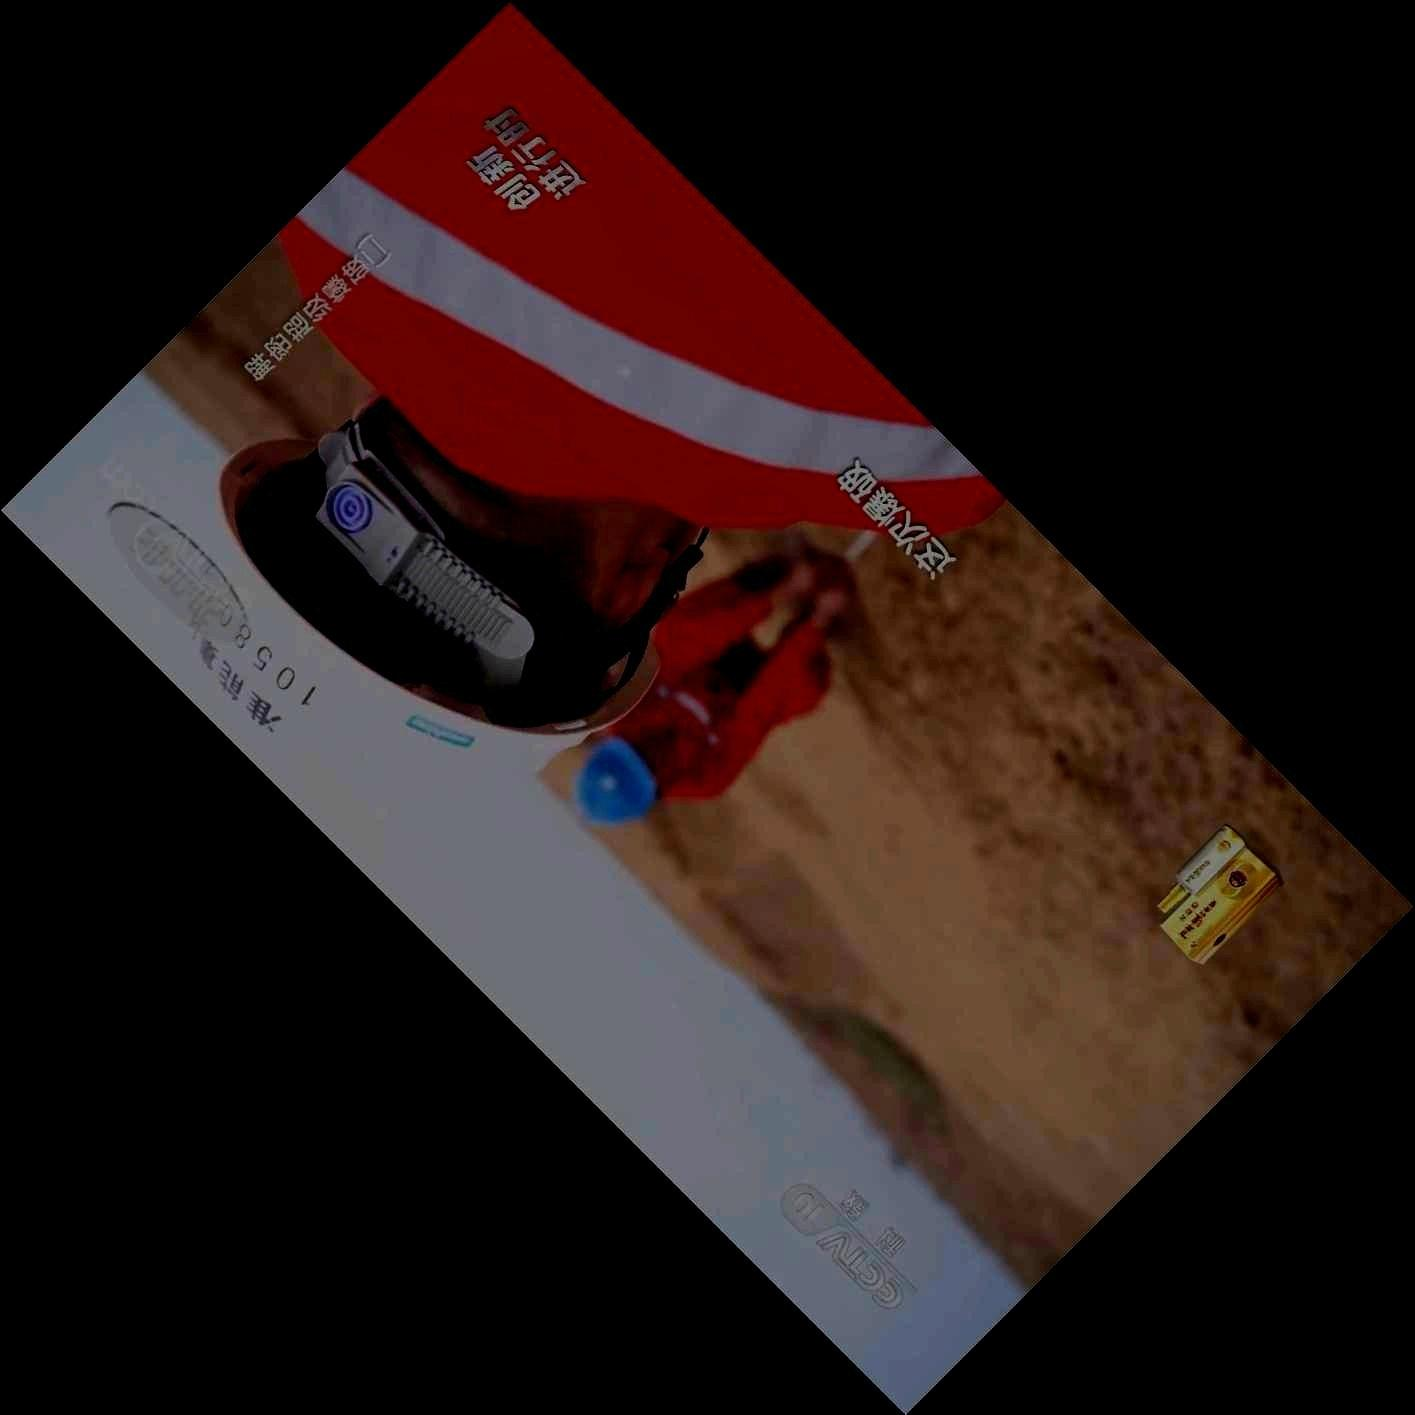helmet: (168, 382, 709, 816), (571, 728, 671, 828)
